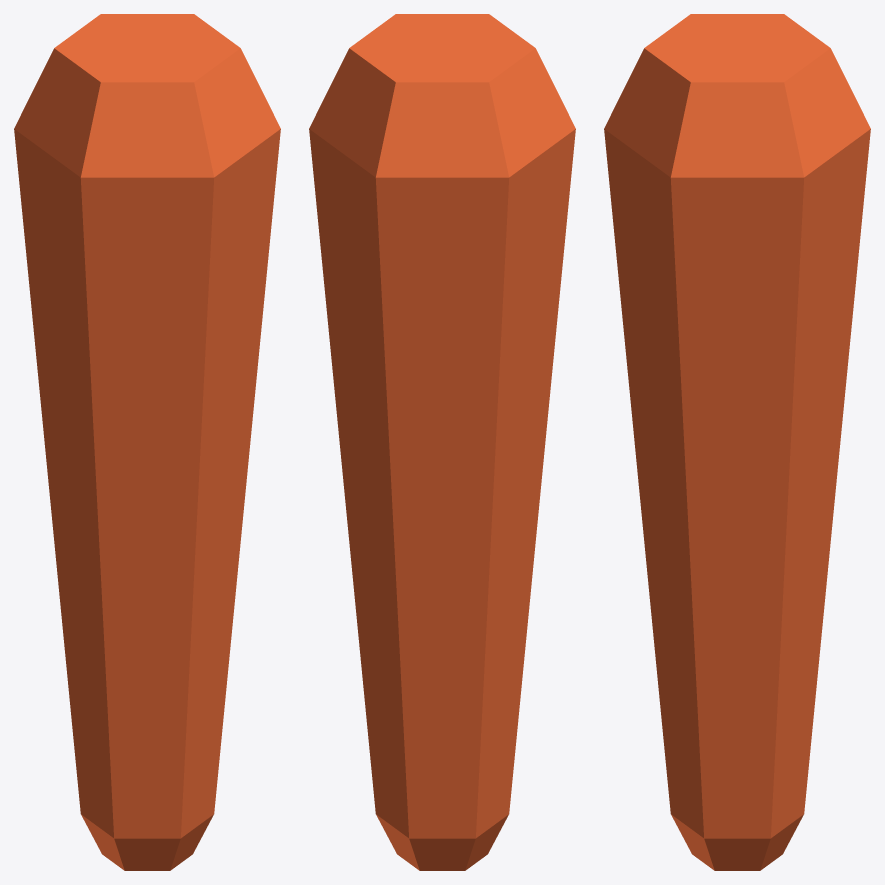
The model's file is carrot.obj.
3 views of the same model, side by side, from view 1: azimuth 30°, elevation 25°; view 2: azimuth 150°, elevation 25°; view 3: azimuth 270°, elevation 25° (orthographic).
Visible parts, largest first — view 1: carrotBody; view 2: carrotBody; view 3: carrotBody.
Part boxes in pixels (<box>): carrotBody: <box>14,14,280,870</box>; carrotBody: <box>309,14,575,870</box>; carrotBody: <box>604,14,870,870</box>.
Size of the model in its own units: 0.1039 by 0.4 by 0.12.
